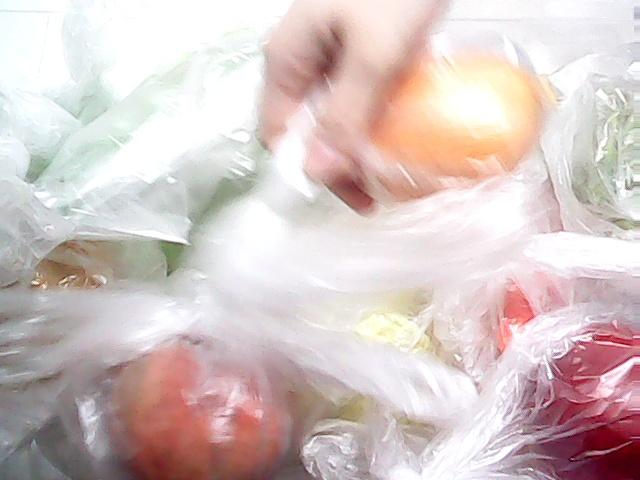apple: (496, 299, 639, 480)
cabbage: (554, 60, 640, 236)
carrot: (489, 236, 579, 354)
lemon: (354, 38, 562, 198)
napa cabbage: (288, 261, 472, 443)
peach: (104, 332, 298, 480)
pepper: (23, 26, 286, 190)
potato: (1, 230, 121, 386)
